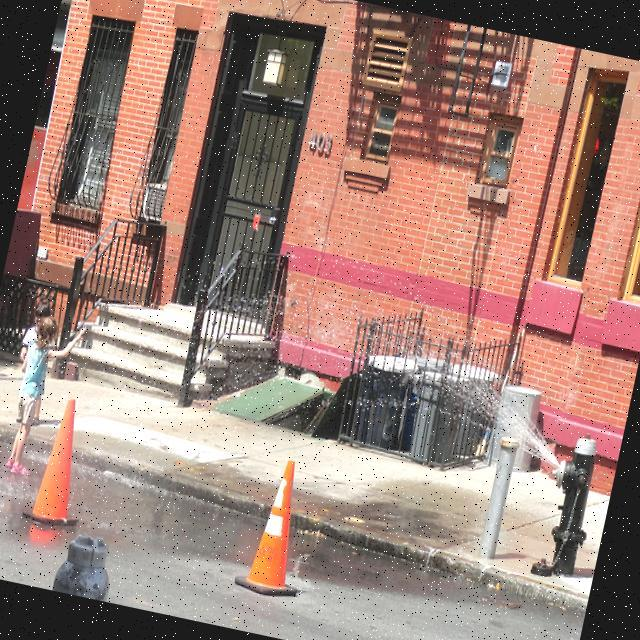fire_hydrant: (528, 426, 608, 584)
